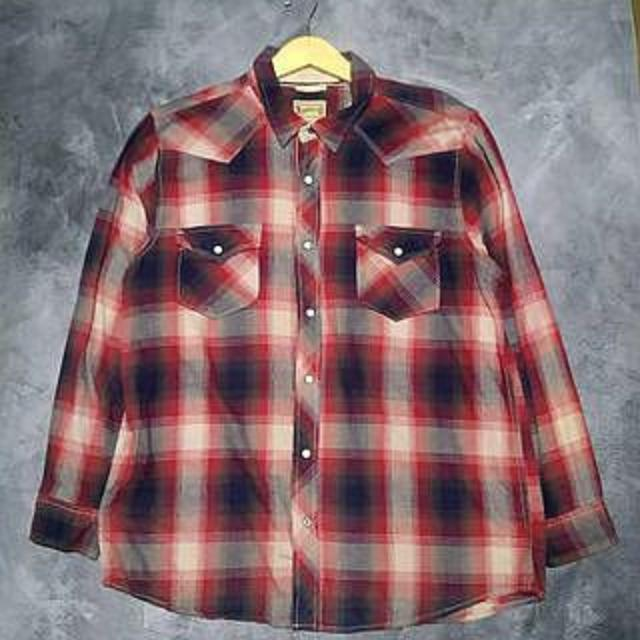SHIRT: (21, 39, 629, 640)
